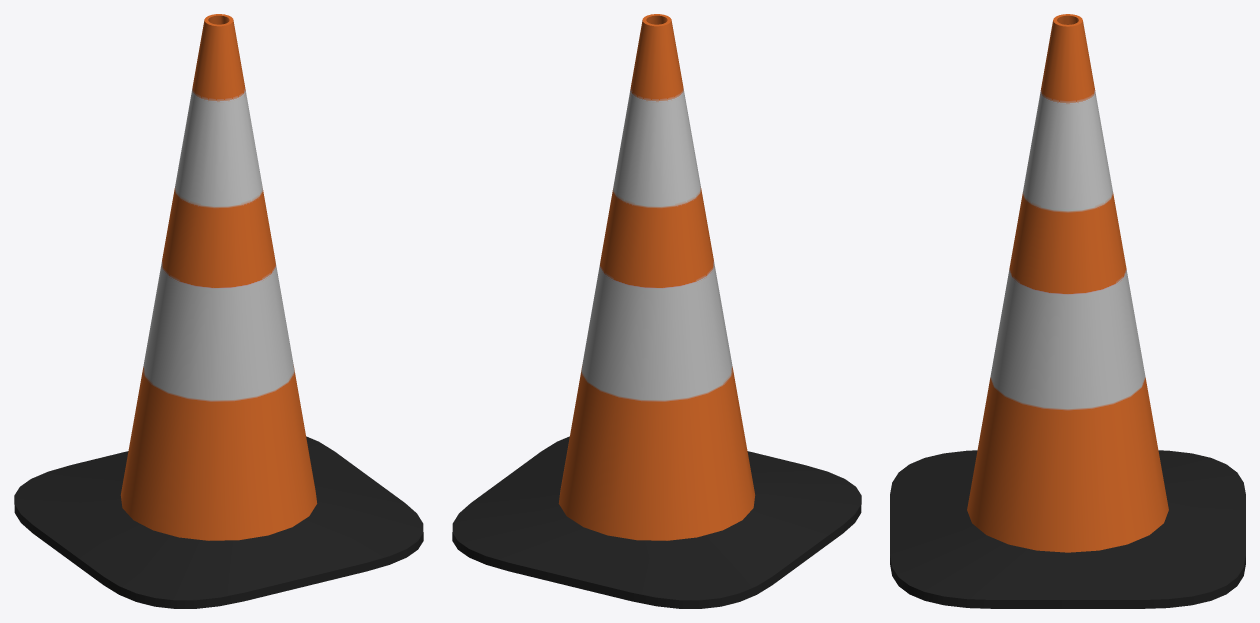
Rendered from trafficConeWTextures.FBX.
The picture shows the model from 3 angles, left to right: view 1: azimuth 30°, elevation 25°; view 2: azimuth 150°, elevation 25°; view 3: azimuth 270°, elevation 25°; orthographic projection. The views are drawn at different scales.
Visible parts, largest first — view 1: Cylinder002; view 2: Cylinder002; view 3: Cylinder002.
Boxes of the visible parts, box(x1,y1,x2,y2) form: Cylinder002: box(14, 14, 423, 608); Cylinder002: box(452, 14, 861, 608); Cylinder002: box(890, 14, 1245, 608).
Bounding box in the file's own units: 0.5129 × 0.8165 × 0.5129.
